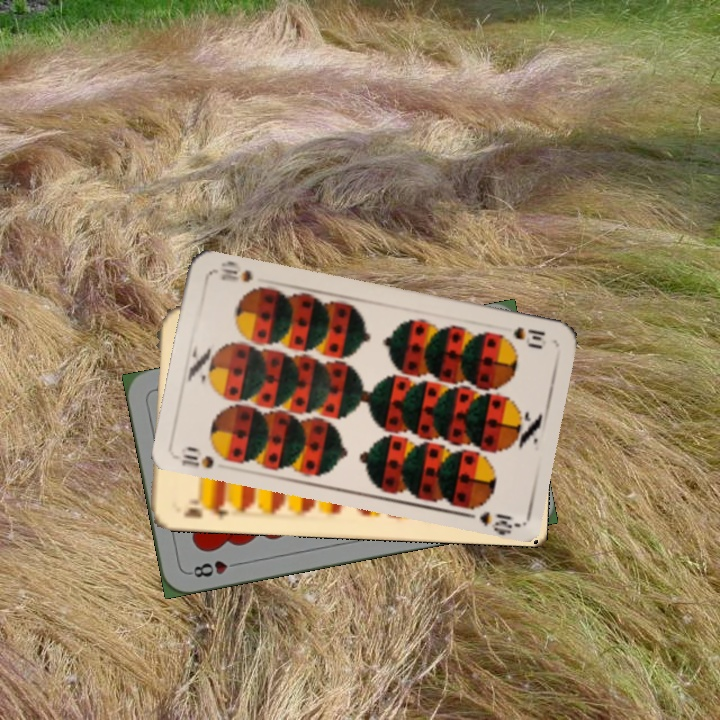E10: (180, 496, 231, 523)
H8: (185, 556, 244, 580)
S10: (178, 442, 233, 471), (509, 323, 548, 349)
